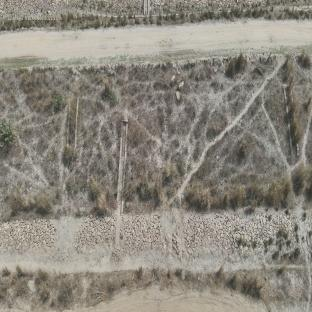rock_toe: (121, 204, 312, 261), (0, 216, 115, 264)
slope_drain: (114, 120, 133, 258), (63, 97, 79, 174)
